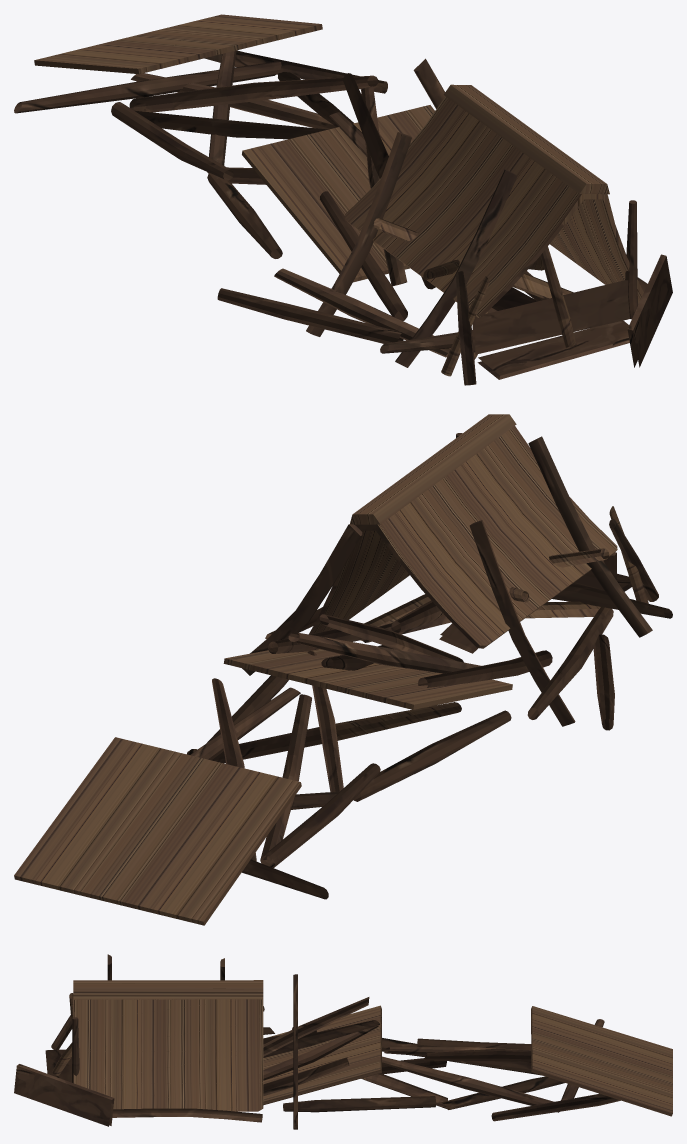
File: Broken tower.fbx
3 renders of one model, top to bottom at view 1: azimuth 30°, elevation 25°; view 2: azimuth 150°, elevation 25°; view 3: azimuth 270°, elevation 25°, orthographic. The views are drawn at different scales.
Visible parts, largest first — view 1: Broken_tower1; view 2: Broken_tower1; view 3: Broken_tower1.
Boxes of the visible parts, x1=… form: Broken_tower1: x1=14, y1=14, x2=672, y2=385; Broken_tower1: x1=14, y1=414, x2=672, y2=925; Broken_tower1: x1=14, y1=954, x2=672, y2=1129.
Bounding box in the file's own units: 7.41 × 4.09 × 17.34.
